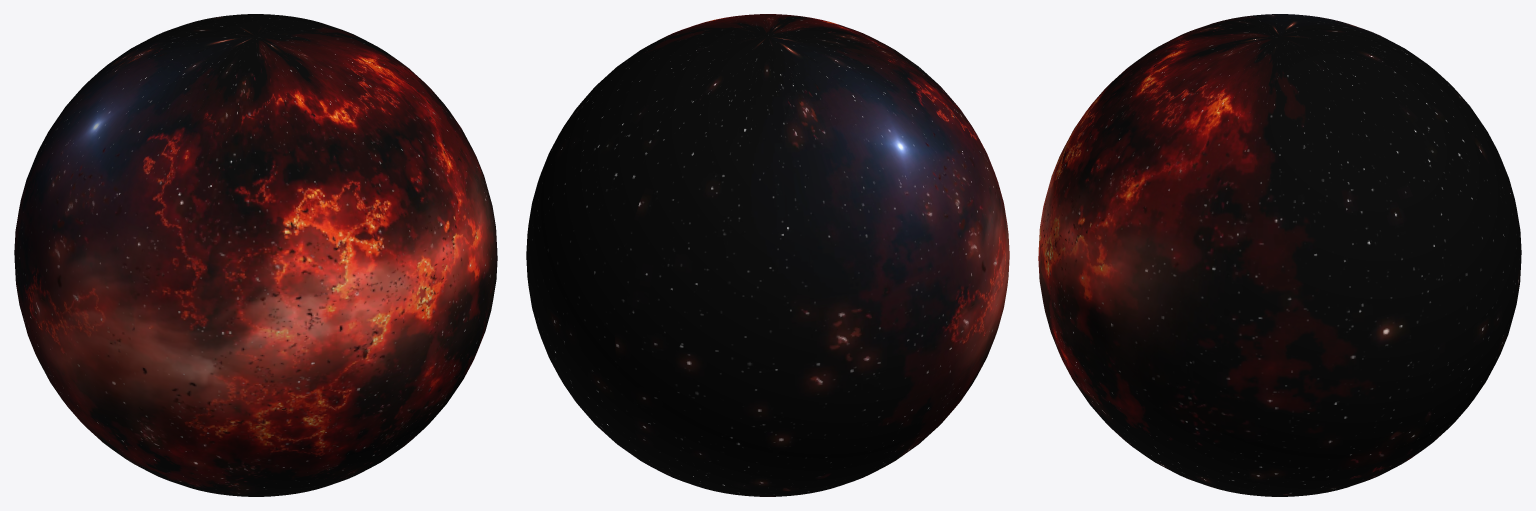
File: cockpit.glb
The picture shows the model from 3 angles, left to right: view 1: azimuth 30°, elevation 25°; view 2: azimuth 150°, elevation 25°; view 3: azimuth 270°, elevation 25°; orthographic projection.
Visible parts, largest first — view 1: Sphere; view 2: Sphere; view 3: Sphere.
Part boxes in pixels (x1,y1,x2,y2): Sphere: [14, 14, 497, 496]; Sphere: [526, 14, 1009, 496]; Sphere: [1038, 14, 1521, 496].
Bounding box in the file's own units: 90.4 × 90.46 × 90.4.
11 materials, 8 textured.
